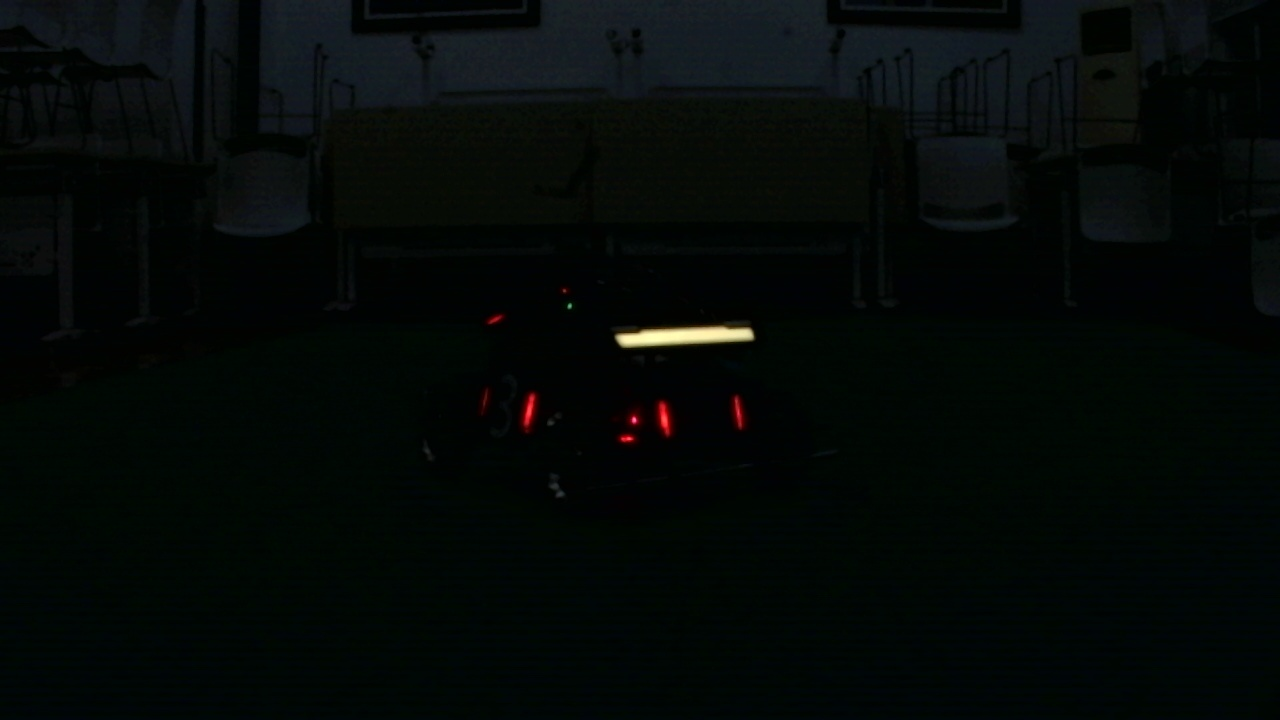lamp: (729, 390, 747, 436), (519, 385, 536, 429), (655, 397, 671, 439)
pair1: (659, 399, 748, 435)
